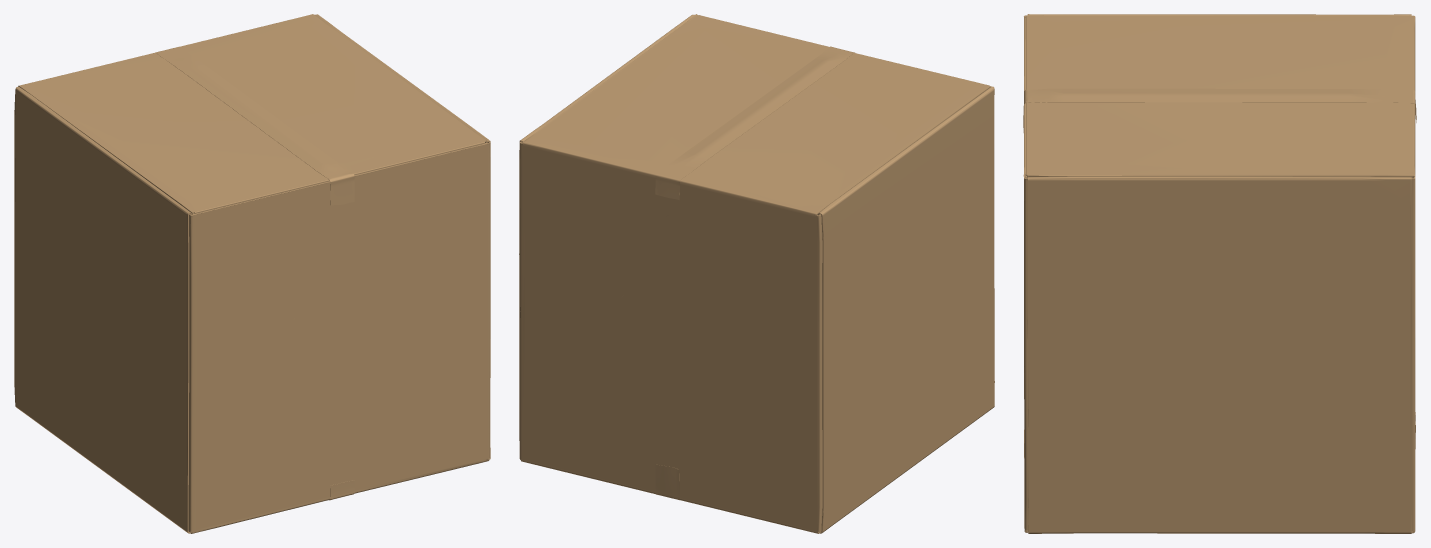
The model's file is box_cube_brown_b04.glb.
3 views of the same model, side by side, from view 1: azimuth 30°, elevation 25°; view 2: azimuth 150°, elevation 25°; view 3: azimuth 270°, elevation 25° (orthographic). The views are drawn at different scales.
Size of the model in its own units: 0.2591 by 0.2622 by 0.26.
